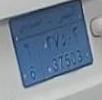city: (14, 35, 46, 88)
number: (37, 20, 92, 80)
text: (10, 1, 84, 42)
